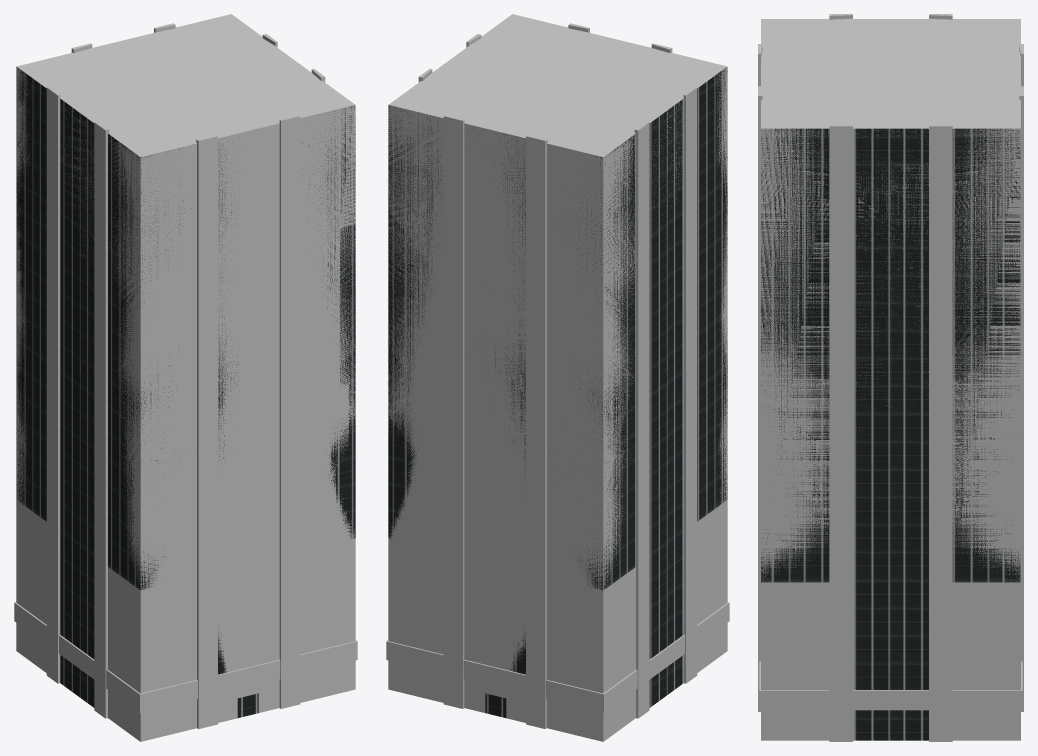
3 renders of one model, left to right at view 1: azimuth 30°, elevation 25°; view 2: azimuth 150°, elevation 25°; view 3: azimuth 270°, elevation 25°, orthographic. The views are drawn at different scales.
Parts seen in each view (by area): view 1: EC-023, EC-023_LOD; view 2: EC-023, EC-023_LOD; view 3: EC-023, EC-023_LOD.
Part boxes in pixels (x1,y1,x2,y2): EC-023: (14,14,357,728); EC-023_LOD: (16,14,355,741); EC-023: (386,14,729,728); EC-023_LOD: (388,14,727,741); EC-023: (758,14,1023,741); EC-023_LOD: (761,19,1020,740).
Size of what is drawn, in the model's own units: 30.87 by 78.98 by 30.89.
